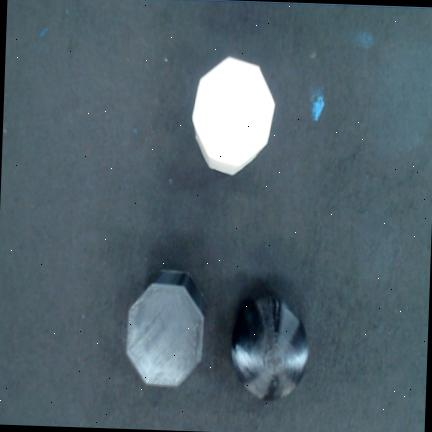Esfera: (232, 296, 308, 400)
Prisma_hexagonal: (192, 57, 275, 175), (127, 272, 203, 386)
